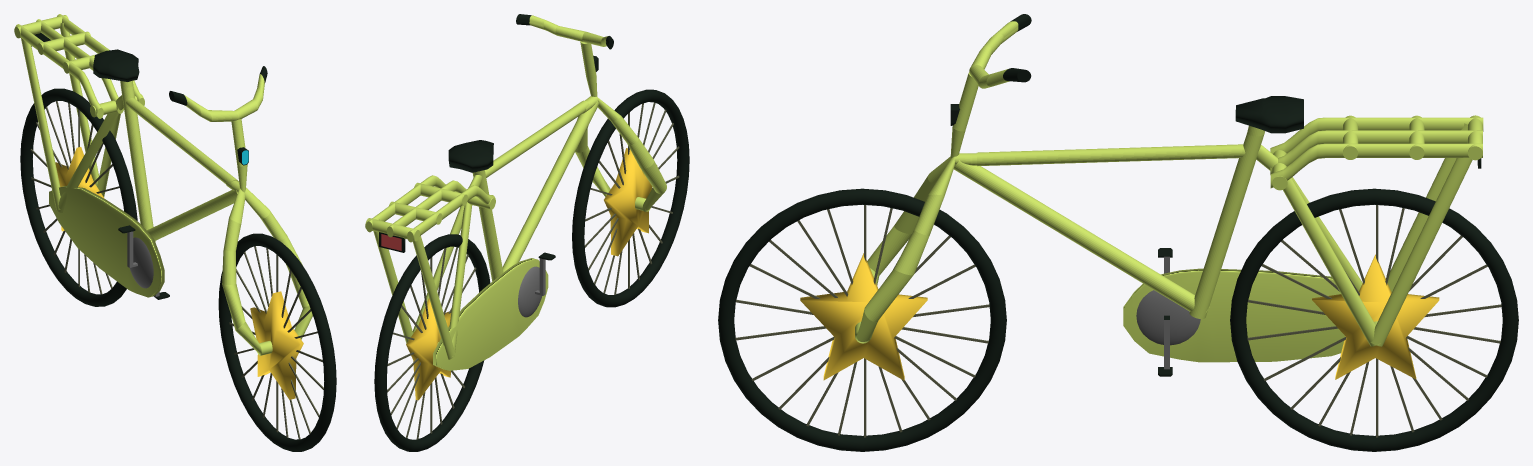
Rendered from Fiets_Man.fbx.
The picture shows the model from 3 angles, left to right: view 1: azimuth 30°, elevation 25°; view 2: azimuth 150°, elevation 25°; view 3: azimuth 270°, elevation 25°; orthographic projection. The views are drawn at different scales.
Parts seen in each view (by area): view 1: Torus.001, Cube.025, Torus, Cube.024, Cylinder.012, Cylinder.006, Cylinder, Cylinder.002, Cylinder.016, Cylinder.014, Cylinder.011, Cube.026 (+8 smaller); view 2: Torus.001, Cube.025, Torus, Cube.024, Cylinder.006, Cylinder.012, Cylinder.011, Cylinder.016, Cube.026, Cylinder.002, Cylinder.001, Cylinder (+10 smaller); view 3: Torus.001, Torus, Cube.024, Cube.025, Cylinder.006, Cylinder.012, Cylinder.011, Cylinder.016, Cylinder, Cylinder.005, Cylinder.004, Sphere (+4 smaller).
Boxes of the visible parts, x1,y1,x2,y2 form: Torus.001: (218,233,336,451); Cube.025: (49,186,164,297); Torus: (20,88,137,306); Cube.024: (55,147,303,399); Cylinder.012: (222,180,312,354); Cylinder.006: (15,14,144,118); Cylinder: (120,80,155,241); Cylinder.002: (21,38,60,209); Cylinder.016: (126,98,238,183); Cylinder.014: (169,66,267,121); Cylinder.011: (147,190,237,240); Cube.026: (93,49,139,81); Torus.001: (572,89,689,307); Cube.025: (433,258,548,370); Torus: (374,234,490,451); Cube.024: (406,148,657,400); Cylinder.006: (366,175,495,242); Cylinder.012: (575,96,666,211); Cylinder.011: (502,100,599,272); Cylinder.016: (485,100,589,177); Cube.026: (448,140,493,172); Cylinder.002: (412,235,455,359); Cylinder.001: (449,202,472,356); Cylinder: (472,170,503,281); Torus.001: (718,188,1006,451); Torus: (1230,188,1518,451); Cube.024: (800,253,1439,380); Cube.025: (1123,268,1345,362); Cylinder.006: (1270,117,1483,188); Cylinder.012: (857,153,976,341); Cylinder.011: (954,160,1207,313); Cylinder.016: (976,144,1245,166); Cylinder: (1189,125,1264,318); Cylinder.005: (1370,157,1472,346); Cylinder.004: (1256,145,1380,346); Sphere: (1136,290,1200,345).
Bounding box in the file's own units: 241 × 792 × 1392.
